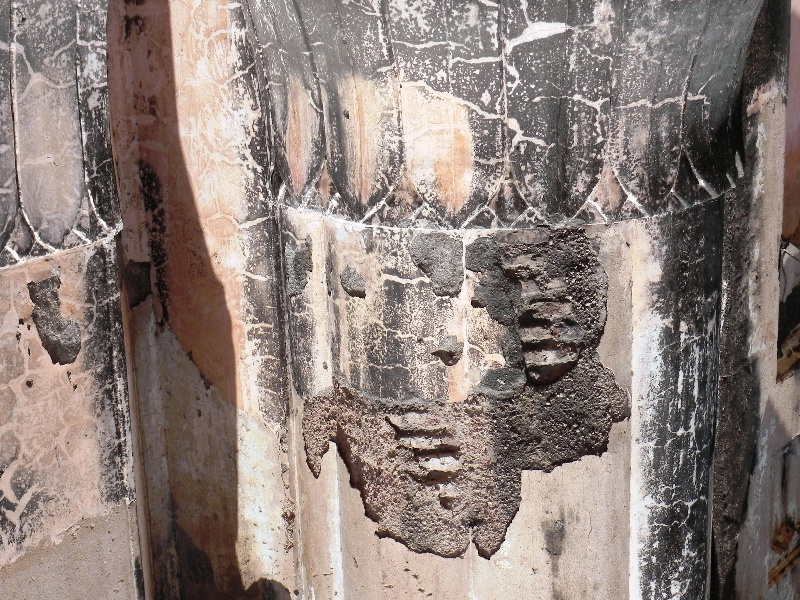Exposed Bricks: (508, 244, 581, 366), (397, 407, 465, 505)
Spalling: (295, 364, 637, 569), (17, 264, 95, 373), (120, 248, 160, 319)
